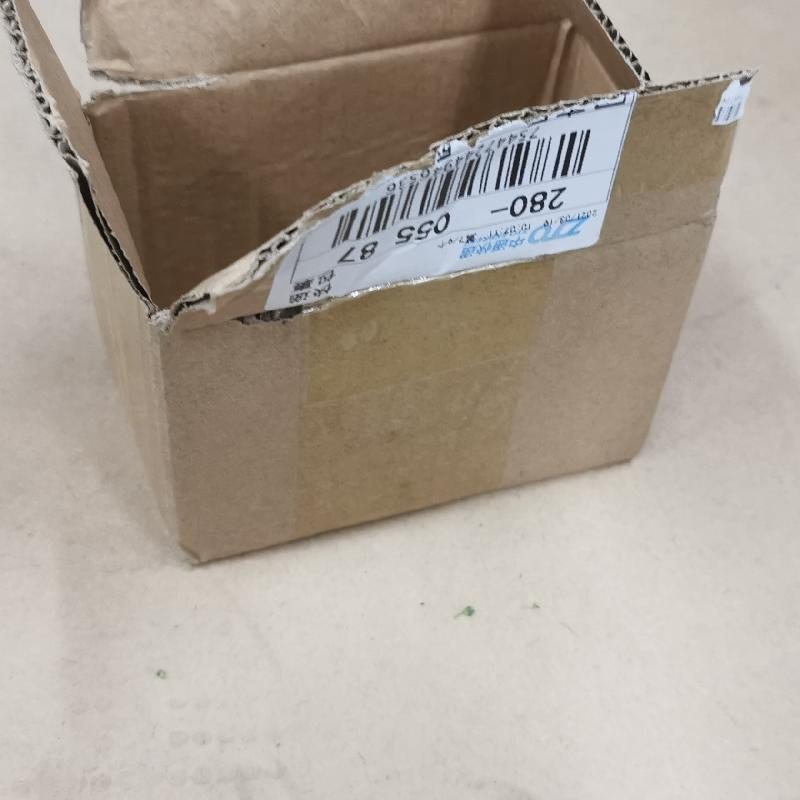boxes: (0, 0, 754, 571)
